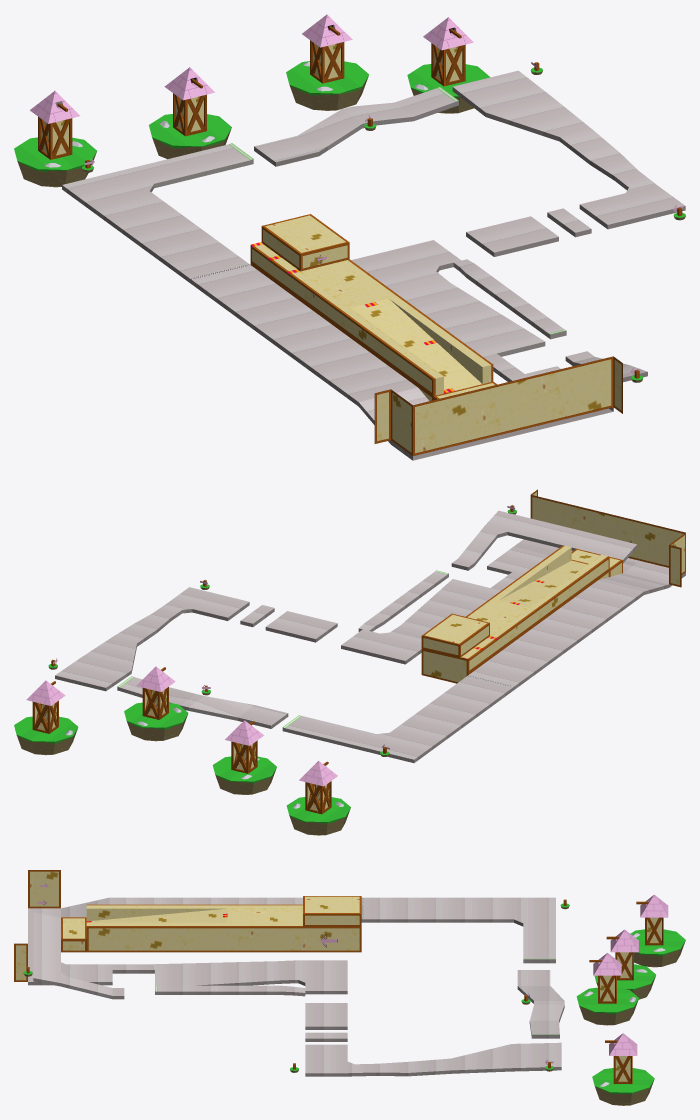
3 renders of one model, top to bottom at view 1: azimuth 30°, elevation 25°; view 2: azimuth 150°, elevation 25°; view 3: azimuth 270°, elevation 25°, orthographic. The views are drawn at different scales.
Visible parts, largest first — view 1: Blowy_Breezeway-SKP-Road, Blowy_Breezeway-SKP-Wallpaper, Blowy_Breezeway-SKP-Wood, Blowy_Breezeway-SKP-Island, Blowy_Breezeway-SKP-RoadSide, Blowy_Breezeway-SKP-Roof; view 2: Blowy_Breezeway-SKP-Road, Blowy_Breezeway-SKP-Wallpaper, Blowy_Breezeway-SKP-Island, Blowy_Breezeway-SKP-Wood, Blowy_Breezeway-SKP-RoadSide, Blowy_Breezeway-SKP-Roof; view 3: Blowy_Breezeway-SKP-Road, Blowy_Breezeway-SKP-Wallpaper, Blowy_Breezeway-SKP-Island, Blowy_Breezeway-SKP-Wood, Blowy_Breezeway-SKP-RoadSide, Blowy_Breezeway-SKP-Roof.
Boxes of the visible parts, x1=… form: Blowy_Breezeway-SKP-Road: x1=62, y1=70, x2=684, y2=420; Blowy_Breezeway-SKP-Wallpaper: x1=41, y1=43, x2=621, y2=453; Blowy_Breezeway-SKP-Wood: x1=38, y1=26, x2=682, y2=455; Blowy_Breezeway-SKP-Island: x1=14, y1=61, x2=685, y2=382; Blowy_Breezeway-SKP-RoadSide: x1=62, y1=87, x2=685, y2=460; Blowy_Breezeway-SKP-Roof: x1=30, y1=14, x2=682, y2=375; Blowy_Breezeway-SKP-Road: x1=55, y1=510, x2=668, y2=759; Blowy_Breezeway-SKP-Wallpaper: x1=35, y1=492, x2=684, y2=808; Blowy_Breezeway-SKP-Island: x1=14, y1=509, x2=516, y2=835; Blowy_Breezeway-SKP-Wood: x1=32, y1=489, x2=685, y2=814; Blowy_Breezeway-SKP-RoadSide: x1=55, y1=532, x2=685, y2=762; Blowy_Breezeway-SKP-Roof: x1=26, y1=505, x2=514, y2=786; Blowy_Breezeway-SKP-Road: x1=28, y1=897, x2=564, y2=1073; Blowy_Breezeway-SKP-Wallpaper: x1=16, y1=871, x2=661, y2=1081; Blowy_Breezeway-SKP-Island: x1=23, y1=903, x2=685, y2=1105; Blowy_Breezeway-SKP-Wood: x1=14, y1=870, x2=663, y2=1083; Blowy_Breezeway-SKP-RoadSide: x1=28, y1=919, x2=564, y2=1076; Blowy_Breezeway-SKP-Roof: x1=37, y1=883, x2=668, y2=1065.
Size of the model in its own units: 45506 by 12309 by 71506.
13 materials, 13 textured.
